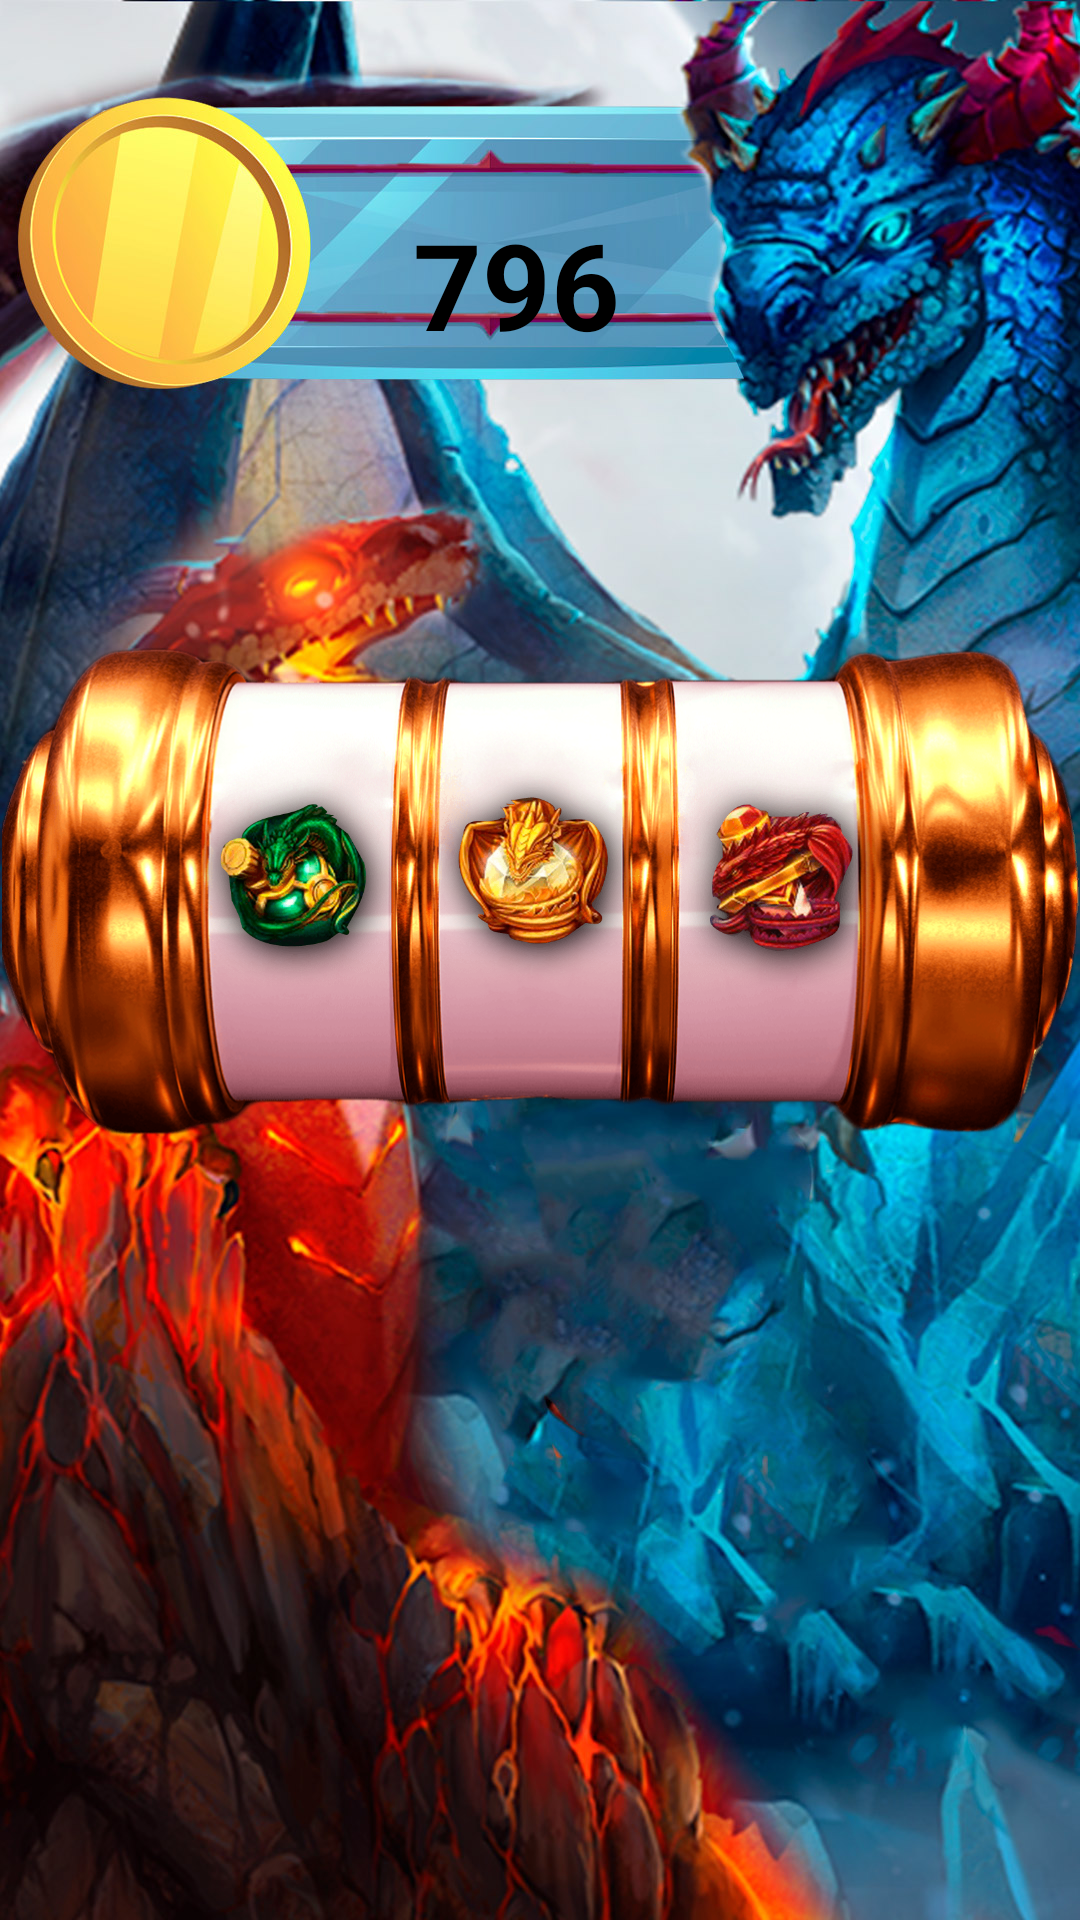

Icons on this 1080×1920 Android screen, each with the point to tap as point (x, y):
slot: point (536, 875), point (296, 880), point (784, 883)
